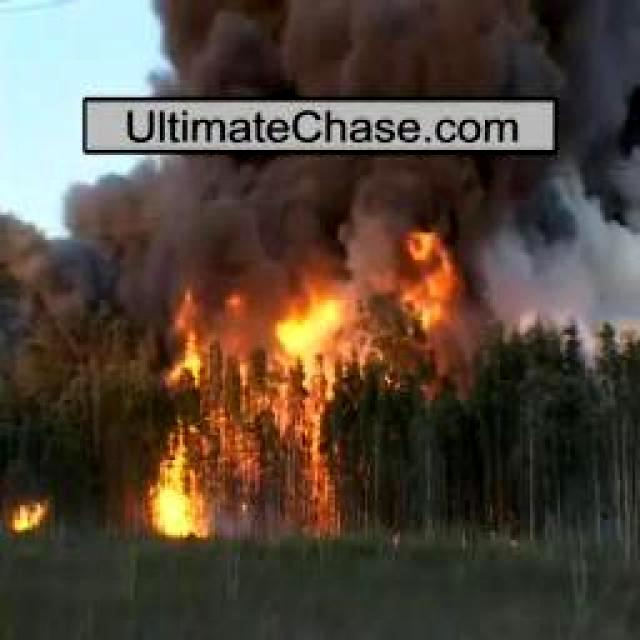helmet: (140, 292, 345, 544), (393, 216, 459, 379), (11, 496, 47, 533)
no_helmet: (63, 157, 640, 337), (145, 0, 640, 102)
